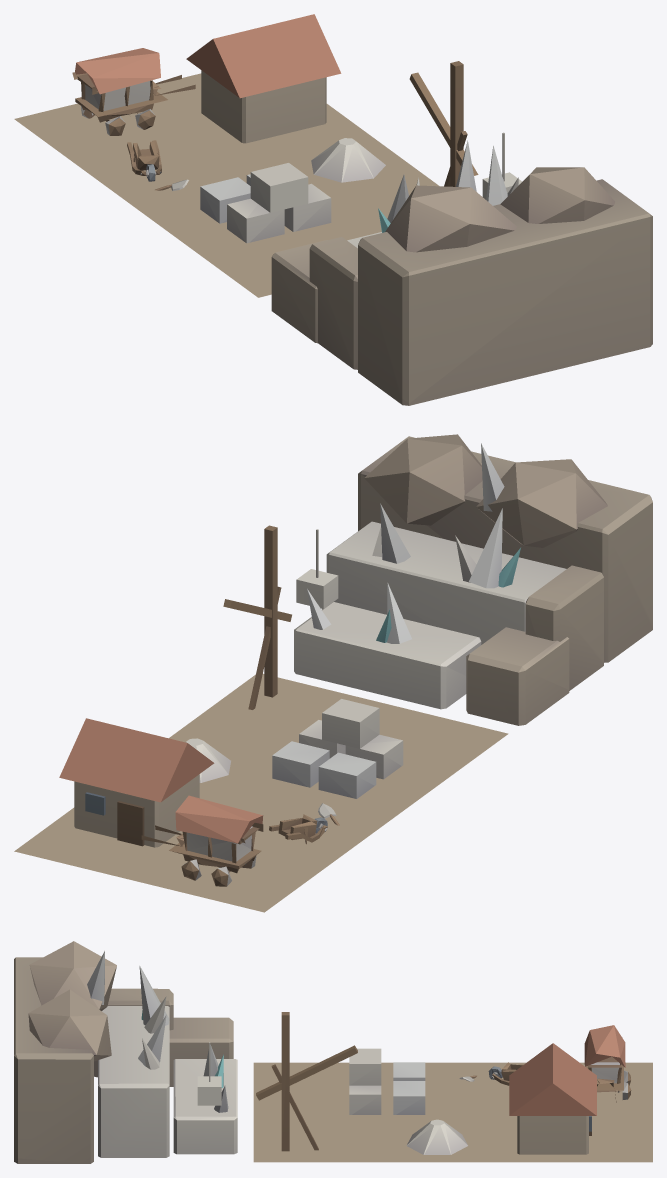
The model's file is quartz_quarry.glb.
The picture shows the model from 3 angles, top to bottom: view 1: azimuth 30°, elevation 25°; view 2: azimuth 150°, elevation 25°; view 3: azimuth 270°, elevation 25°; orthographic projection. The views are drawn at different scales.
Visible parts, largest first — view 1: quartz_quarry; view 2: quartz_quarry; view 3: quartz_quarry.
Part boxes in pixels (x1,y1,x2,y2): quartz_quarry: [14, 14, 652, 405]; quartz_quarry: [14, 434, 652, 912]; quartz_quarry: [14, 941, 652, 1163].
Bounding box in the file's own units: 2.98 × 2.29 × 8.
